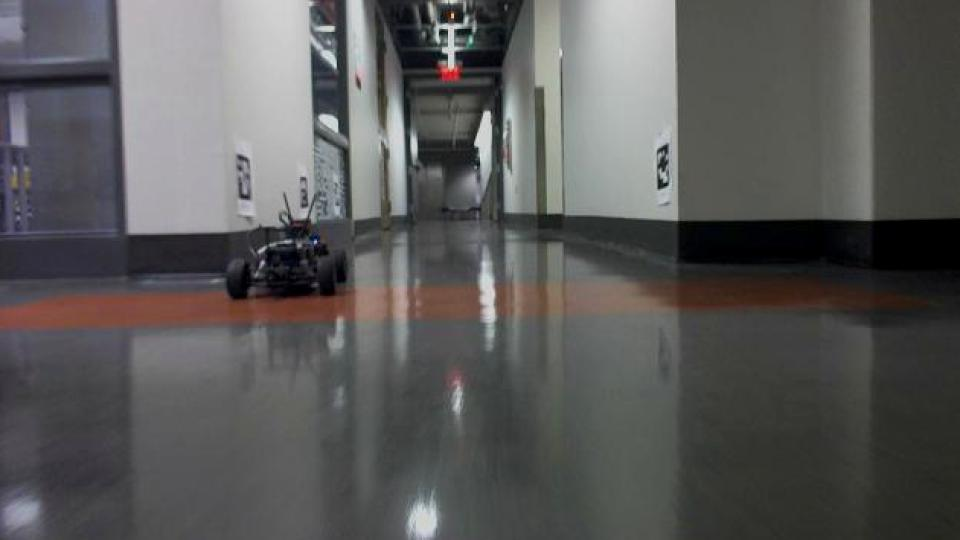car: (220, 189, 347, 302)
